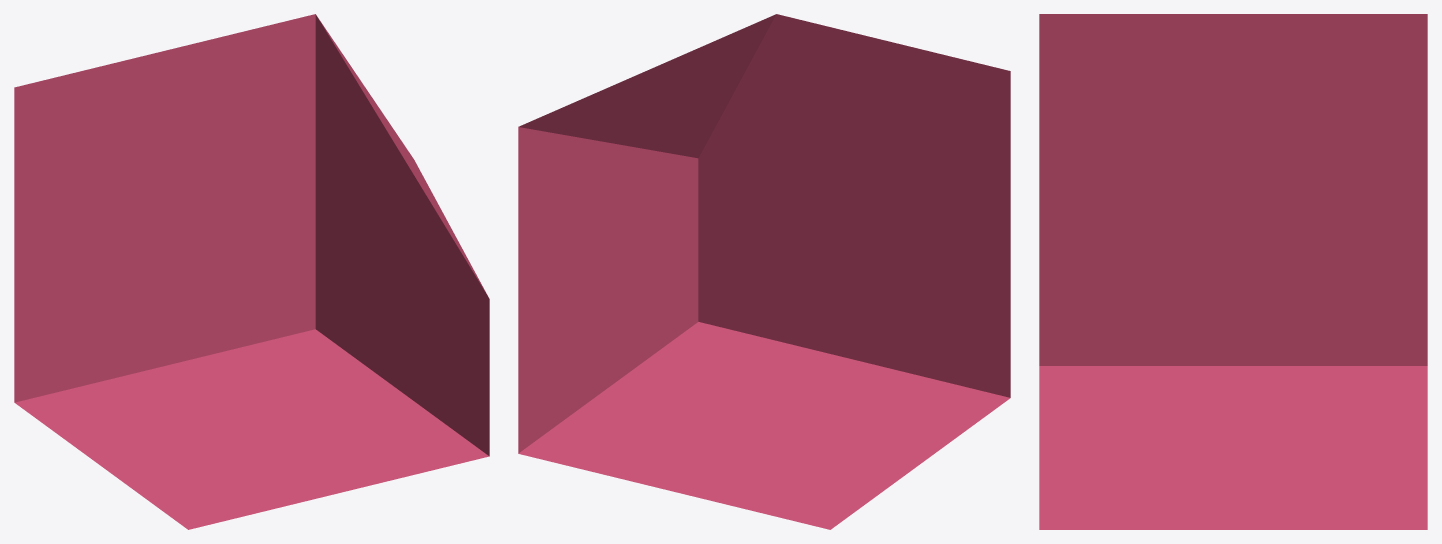
Rendered from r5c4_border_pink.gltf.
3 renders of one model, left to right at view 1: azimuth 30°, elevation 25°; view 2: azimuth 150°, elevation 25°; view 3: azimuth 270°, elevation 25°, orthographic. The views are drawn at different scales.
Visible parts, largest first — view 1: r5c4_border_pink; view 2: r5c4_border_pink; view 3: r5c4_border_pink.
Boxes of the visible parts, box(x1,y1,x2,y2) form: r5c4_border_pink: box(14, 14, 489, 529); r5c4_border_pink: box(518, 14, 1010, 529); r5c4_border_pink: box(1039, 14, 1427, 529).
Bounding box in the file's own units: 2.1 × 2.1 × 2.1.
1 material, 1 textured.
